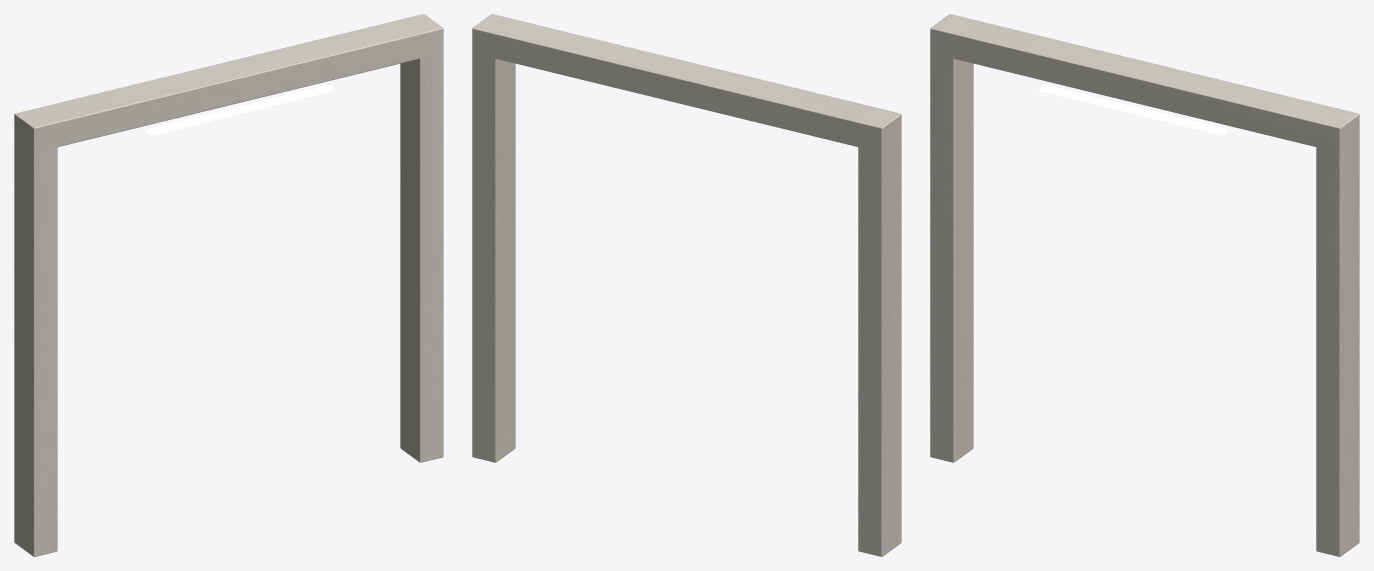
File: stairwell-portal.glb
3 renders of one model, left to right at view 1: azimuth 30°, elevation 25°; view 2: azimuth 150°, elevation 25°; view 3: azimuth 330°, elevation 25°, orthographic.
Visible parts, largest first — view 1: StairPortal_Left, StairPortal_Header, StairPortal_Right, StairPortal_Light; view 2: StairPortal_Left, StairPortal_Header, StairPortal_Right; view 3: StairPortal_Right, StairPortal_Left, StairPortal_Header, StairPortal_Light.
Part boxes in pixels (x1,y1,x2,y2): StairPortal_Left: (14,108,57,556); StairPortal_Header: (14,14,442,152); StairPortal_Right: (400,14,443,462); StairPortal_Light: (146,84,334,135); StairPortal_Left: (858,108,901,556); StairPortal_Header: (472,14,901,152); StairPortal_Right: (472,14,515,462); StairPortal_Right: (1316,108,1359,556); StairPortal_Left: (930,14,973,462); StairPortal_Header: (930,14,1359,152); StairPortal_Light: (1039,84,1227,135).
Bounding box in the file's own units: 7.8 × 7.8 × 0.79.
Materials: 2 (1 with a texture image).
